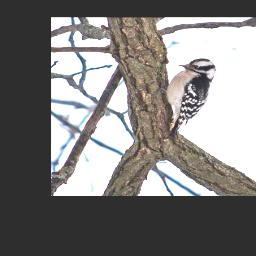Woodpecker: (154, 58, 217, 137)
